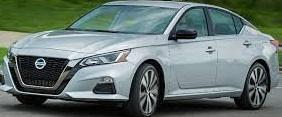Cars: (1, 4, 280, 117)
